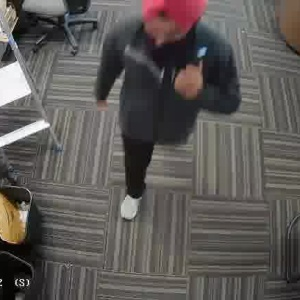person: (110, 2, 240, 214)
